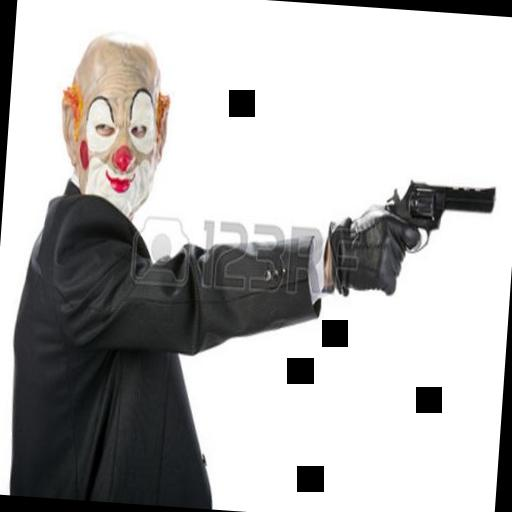Handgun: (368, 160, 496, 315)
